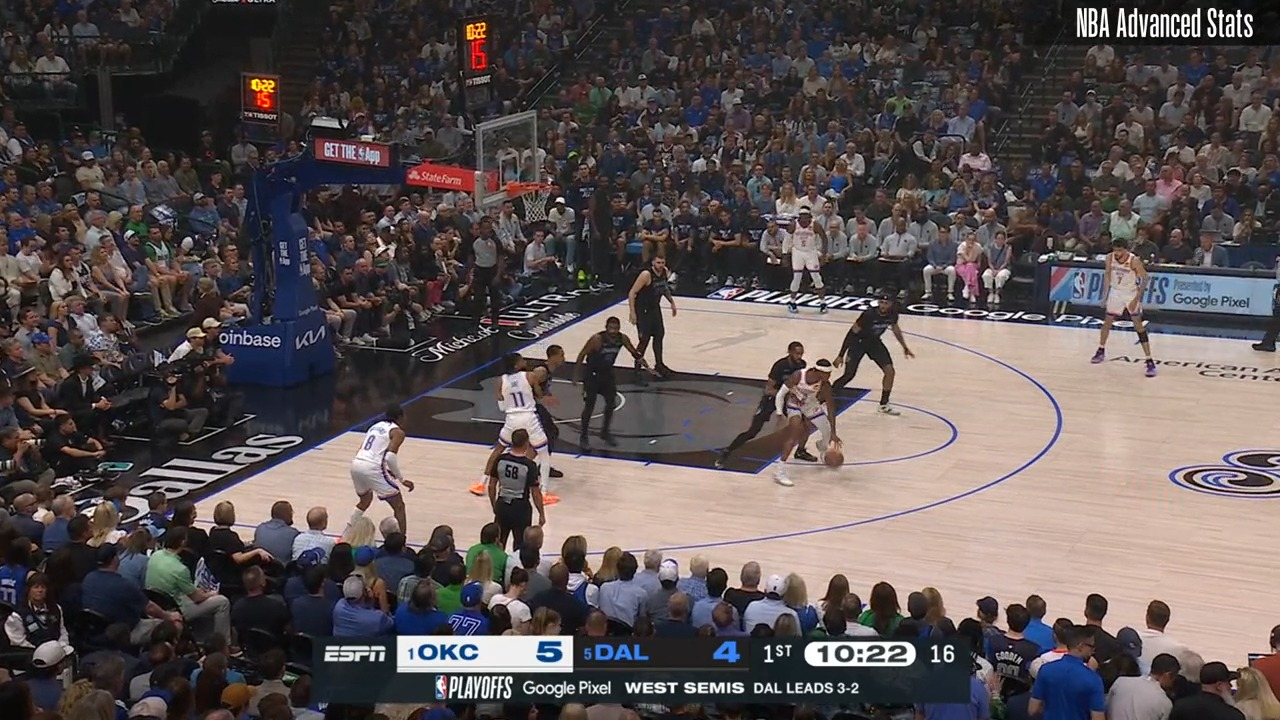basketball: (823, 449, 846, 471)
